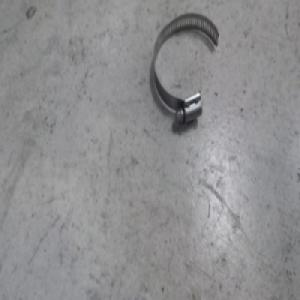AdjustableClamp: (151, 11, 220, 119)
